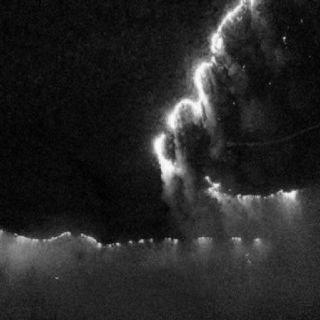Fire: (150, 4, 264, 182), (1, 231, 263, 255), (172, 181, 300, 213)
